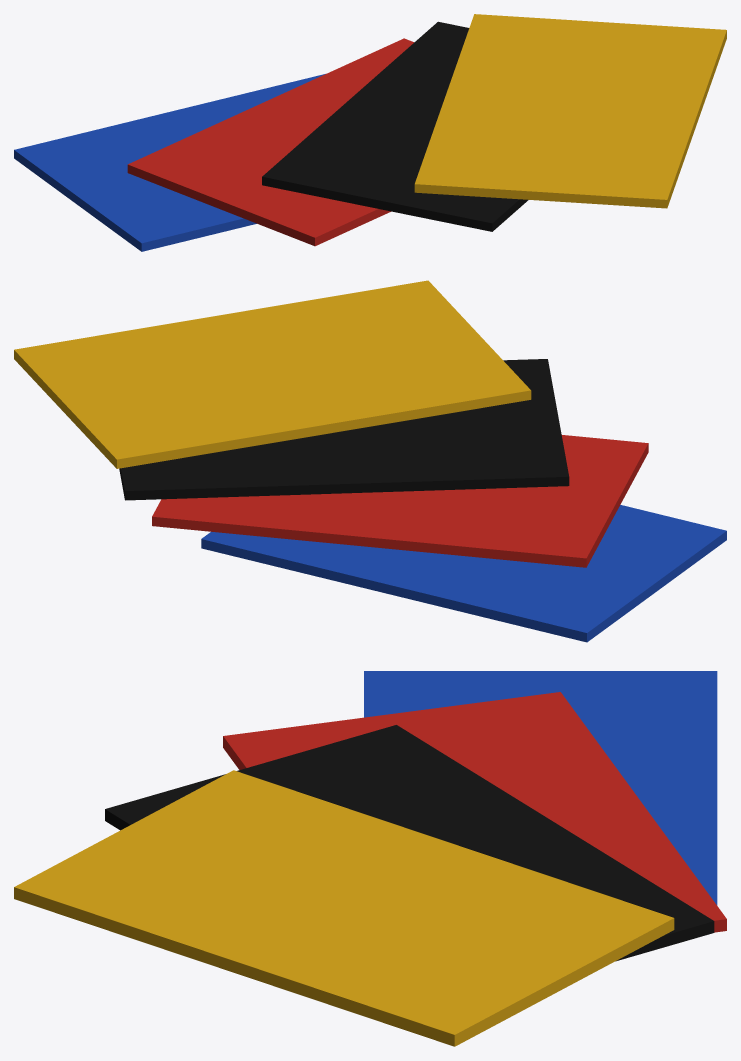
The model's file is cartoes.glb.
3 renders of one model, top to bottom at view 1: azimuth 30°, elevation 25°; view 2: azimuth 150°, elevation 25°; view 3: azimuth 270°, elevation 25°, orthographic. The views are drawn at different scales.
Parts seen in each view (by area): view 1: cartoes; view 2: cartoes; view 3: cartoes.
Part boxes in pixels (x1,y1,x2,y2): cartoes: [14, 14, 726, 251]; cartoes: [14, 280, 726, 642]; cartoes: [14, 671, 726, 1046].
Bounding box in the file's own units: 0.1509 × 0.011 × 0.109.
